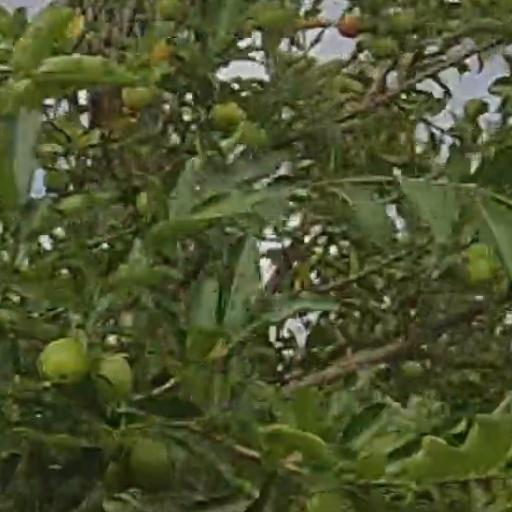acerola_verde: (46, 337, 88, 383), (94, 357, 128, 399)
acerola_vermelha: (337, 11, 359, 41)
